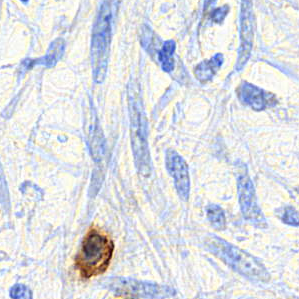Lymphocyte: (75, 225, 114, 280)
